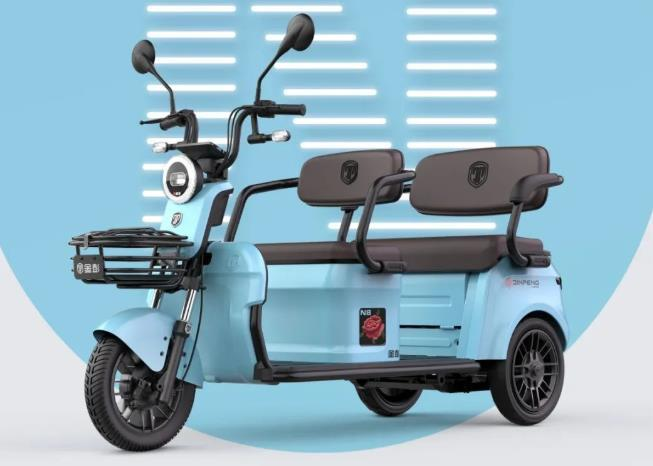empty: (40, 16, 584, 457)
